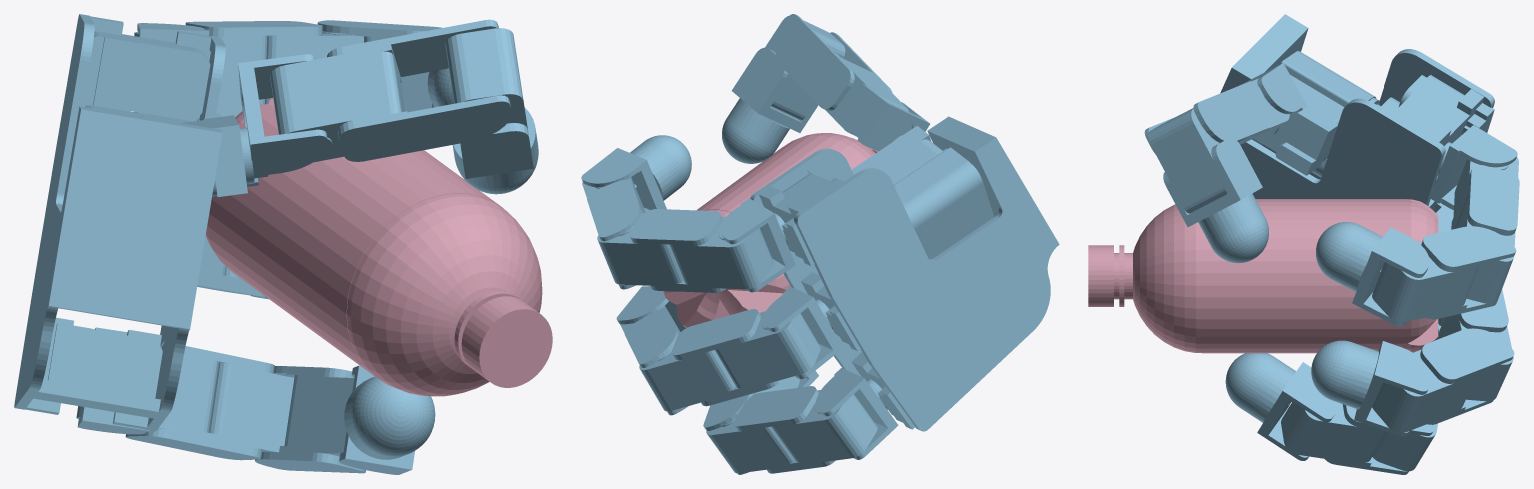
3 renders of one model, left to right at view 1: azimuth 30°, elevation 25°; view 2: azimuth 150°, elevation 25°; view 3: azimuth 270°, elevation 25°, orthographic. The views are drawn at different scales.
Visible parts, largest first — view 1: world; view 2: world; view 3: world.
Part boxes in pixels (bbox=[...]): world: bbox=[14, 14, 552, 474]; world: bbox=[581, 14, 1059, 474]; world: bbox=[1088, 14, 1519, 474].
Size of the model in its own units: 0.1852 by 0.1693 by 0.1682.
